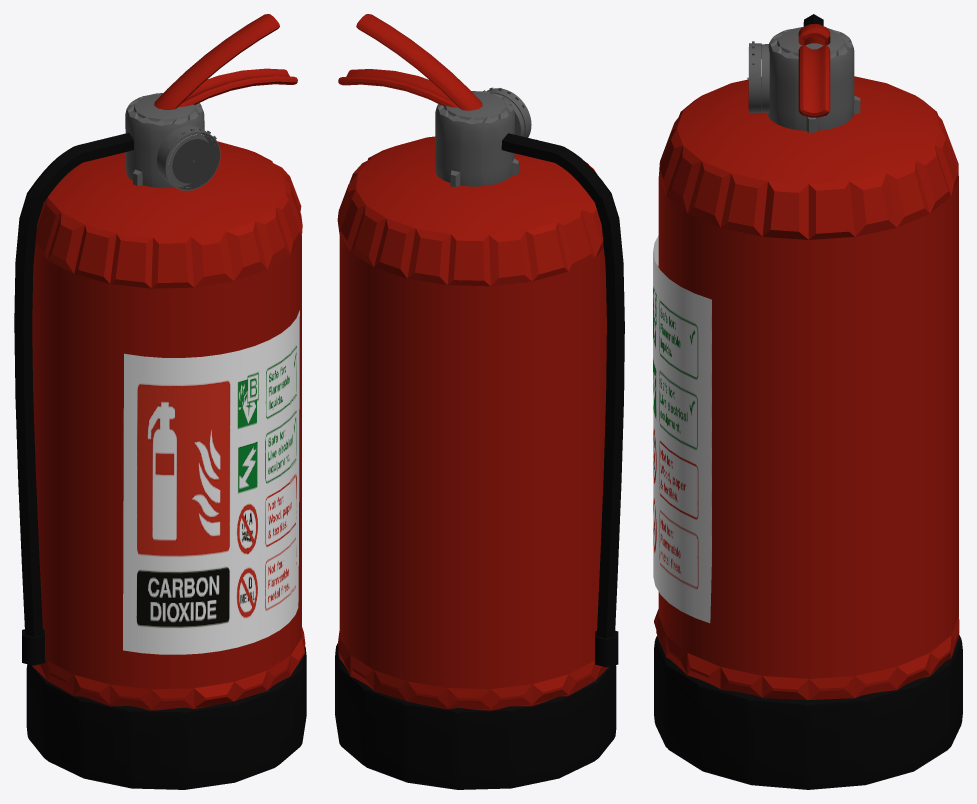
The model's file is ExtintorFinal.fbx.
3 renders of one model, left to right at view 1: azimuth 30°, elevation 25°; view 2: azimuth 150°, elevation 25°; view 3: azimuth 270°, elevation 25°, orthographic. The views are drawn at different scales.
Parts seen in each view (by area): view 1: Extintor_LOD0; view 2: Extintor_LOD0; view 3: Extintor_LOD0.
Part boxes in pixels (x1,y1,x2,y2): Extintor_LOD0: (14, 14, 306, 789); Extintor_LOD0: (335, 14, 624, 789); Extintor_LOD0: (653, 14, 962, 789).
Size of what is drawn, in the model's own units: 18.5 by 43.73 by 16.26.
